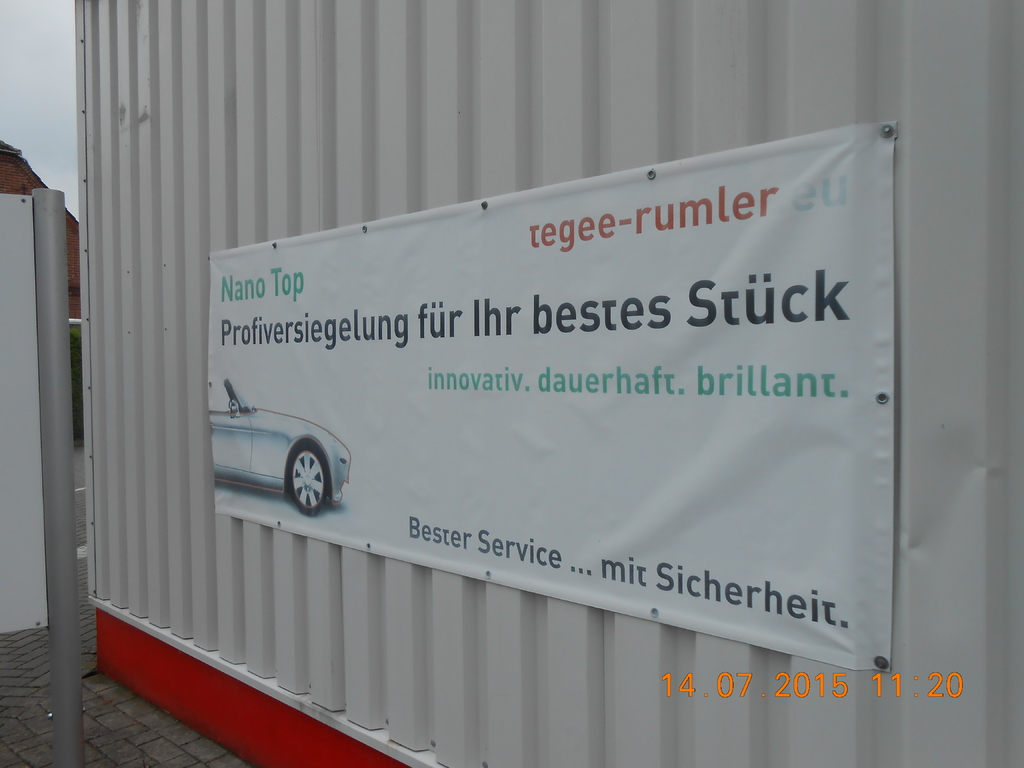Car: (209, 378, 350, 515)
